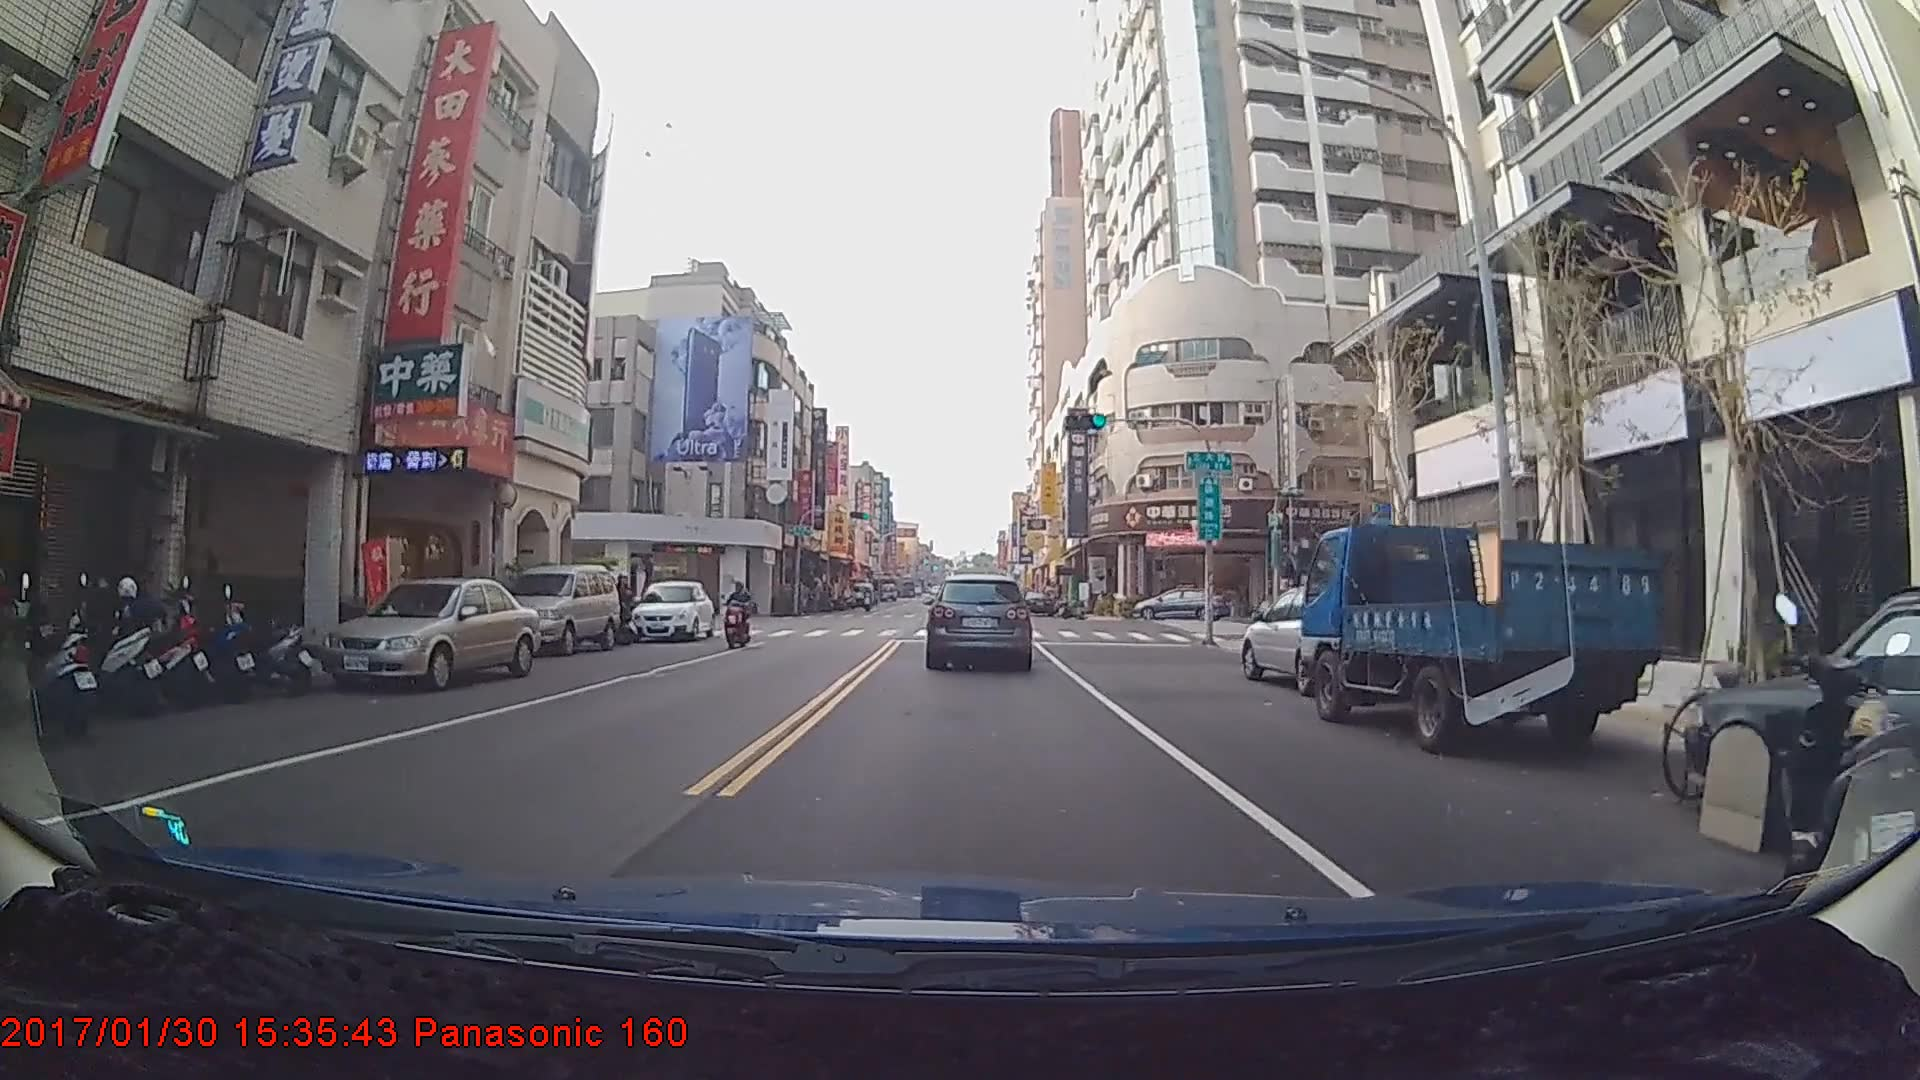rider: (724, 580, 758, 652)
vehicle: (1303, 523, 1663, 751), (311, 575, 539, 692), (1239, 582, 1385, 697), (486, 561, 621, 658), (926, 572, 1031, 669), (631, 579, 717, 642), (1130, 585, 1222, 620), (1021, 589, 1054, 614), (850, 579, 874, 606)
